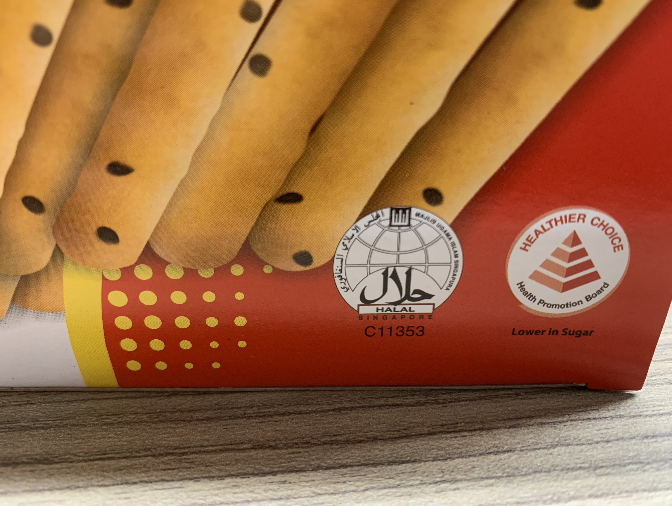halal: (356, 225, 445, 315)
